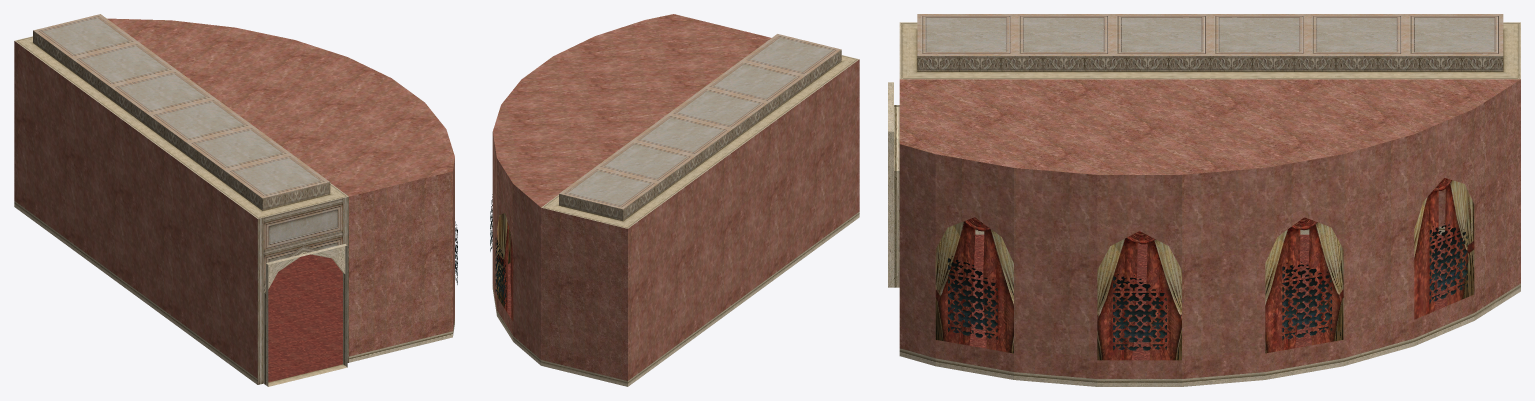
File: ply_nboo_house_sm_s01_fp1_r3_room2_mesh_r3.fbx
3 renders of one model, left to right at view 1: azimuth 30°, elevation 25°; view 2: azimuth 150°, elevation 25°; view 3: azimuth 270°, elevation 25°, orthographic. The views are drawn at different scales.
Visible parts, largest first — view 1: mesh_node; view 2: mesh_node; view 3: mesh_node.
Part boxes in pixels (x1,y1,x2,y2): mesh_node: (14, 14, 457, 386); mesh_node: (490, 14, 859, 386); mesh_node: (888, 14, 1520, 386).
Size of the model in its own units: 6.26 by 4.3 by 10.82.
